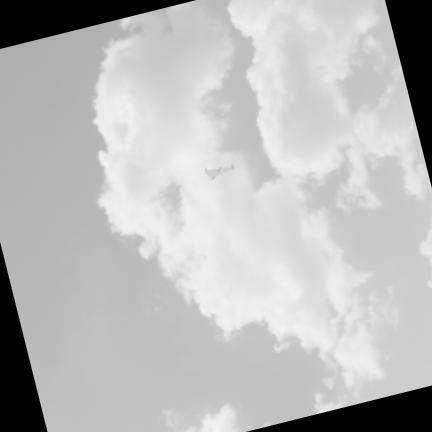Shahed: (205, 163, 233, 178)
